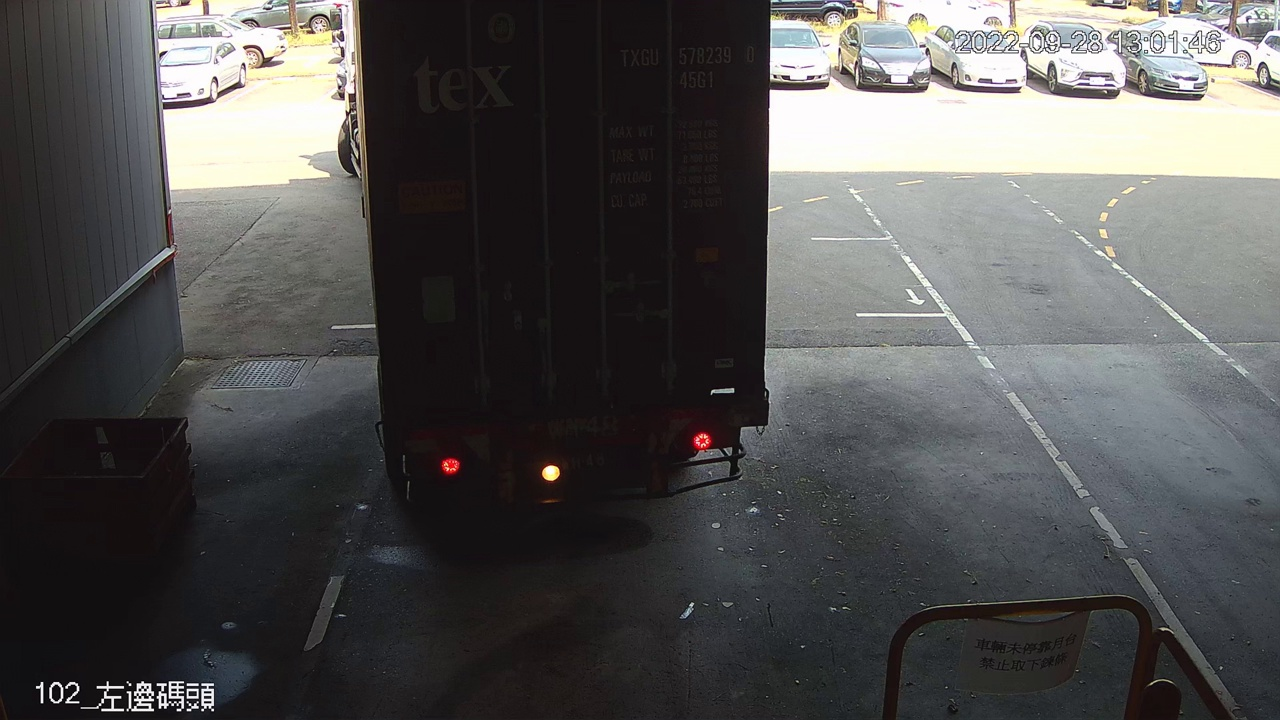container: (614, 39, 760, 93)
